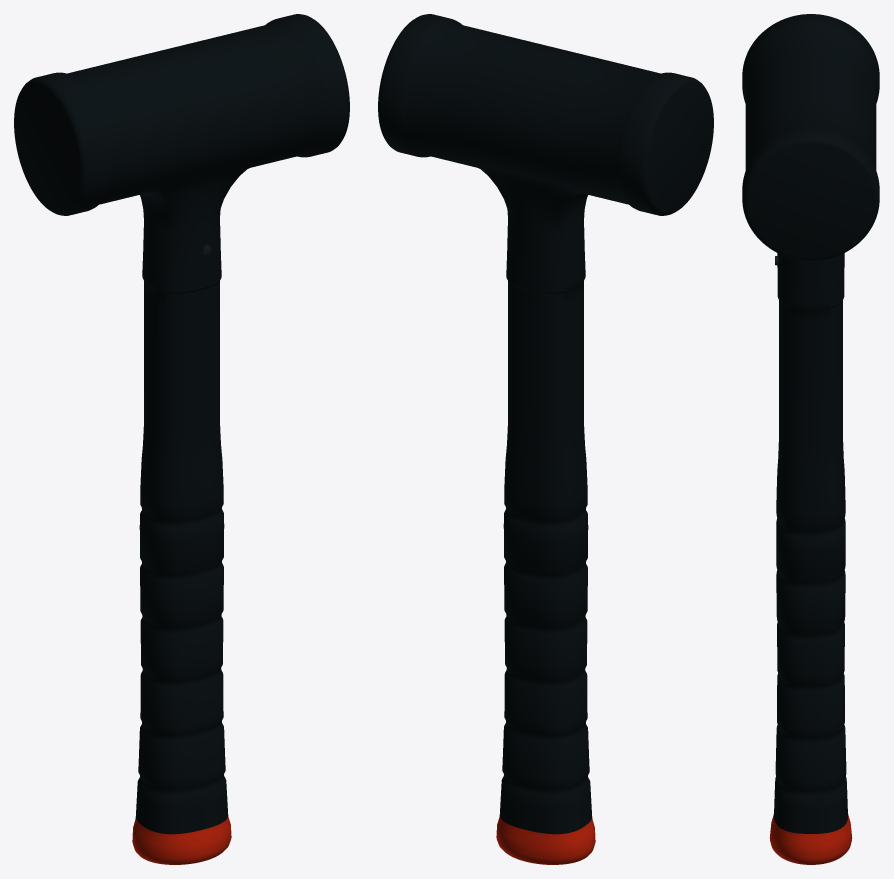
The picture shows the model from 3 angles, left to right: view 1: azimuth 30°, elevation 25°; view 2: azimuth 150°, elevation 25°; view 3: azimuth 270°, elevation 25°; orthographic projection. The views are drawn at different scales.
Parts seen in each view (by area): view 1: part_315_outer_cover, part_321_butt_cap; view 2: part_315_outer_cover, part_321_butt_cap; view 3: part_315_outer_cover, part_321_butt_cap.
Boxes of the visible parts, x1=… form: part_315_outer_cover: x1=14, y1=14, x2=349, y2=834; part_321_butt_cap: x1=132, y1=816, x2=231, y2=864; part_315_outer_cover: x1=378, y1=14, x2=713, y2=834; part_321_butt_cap: x1=496, y1=816, x2=595, y2=864; part_315_outer_cover: x1=742, y1=14, x2=879, y2=833; part_321_butt_cap: x1=769, y1=814, x2=852, y2=864.
Size of the model in its own units: 0.0974 by 0.2755 by 0.0445.
